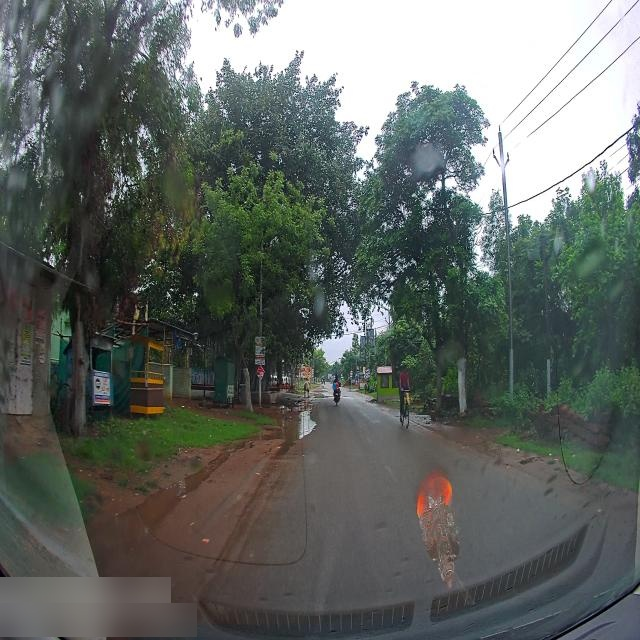pothole: (364, 500, 400, 540), (383, 568, 415, 607), (400, 541, 428, 576), (256, 566, 276, 604), (285, 584, 299, 604)
